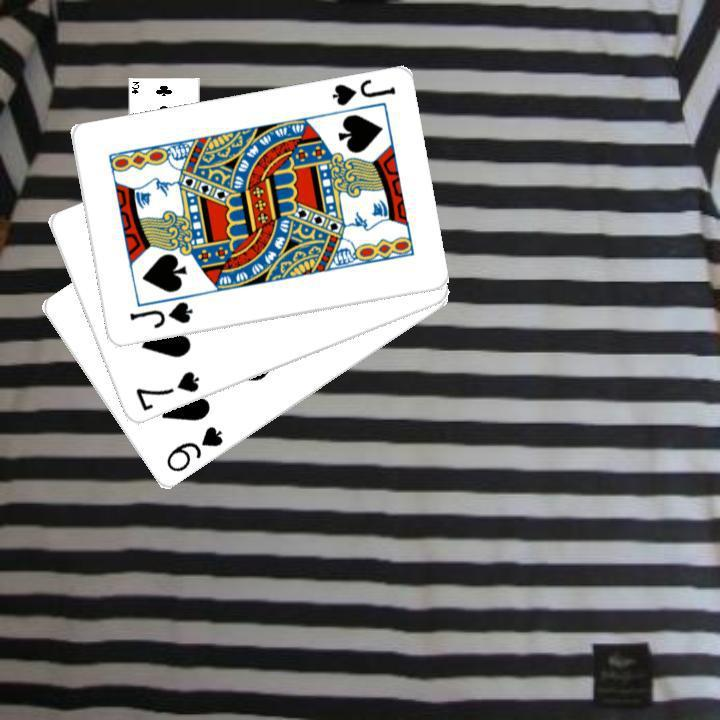7: (131, 367, 201, 414)
9: (161, 422, 225, 475)
J: (125, 298, 195, 331), (327, 75, 397, 108)
